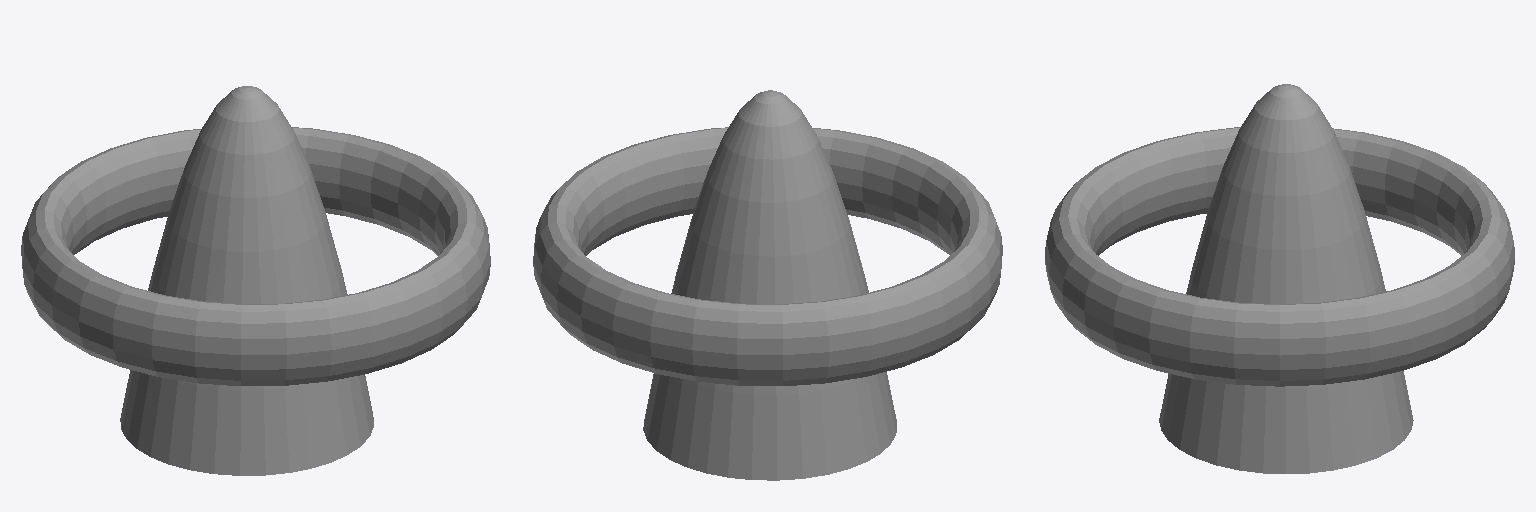
File: objtest.obj
The picture shows the model from 3 angles: view 1: azimuth 30°, elevation 25°; view 2: azimuth 150°, elevation 25°; view 3: azimuth 270°, elevation 25°; orthographic projection.
Visible parts, largest first — view 1: Cool_Duup; view 2: Cool_Duup; view 3: Cool_Duup.
Part boxes in pixels (bbox=[...]): Cool_Duup: bbox=[21, 86, 490, 475]; Cool_Duup: bbox=[533, 90, 1002, 480]; Cool_Duup: bbox=[1045, 84, 1514, 473].
Bounding box in the file's own units: 2.85 × 2.23 × 2.85.